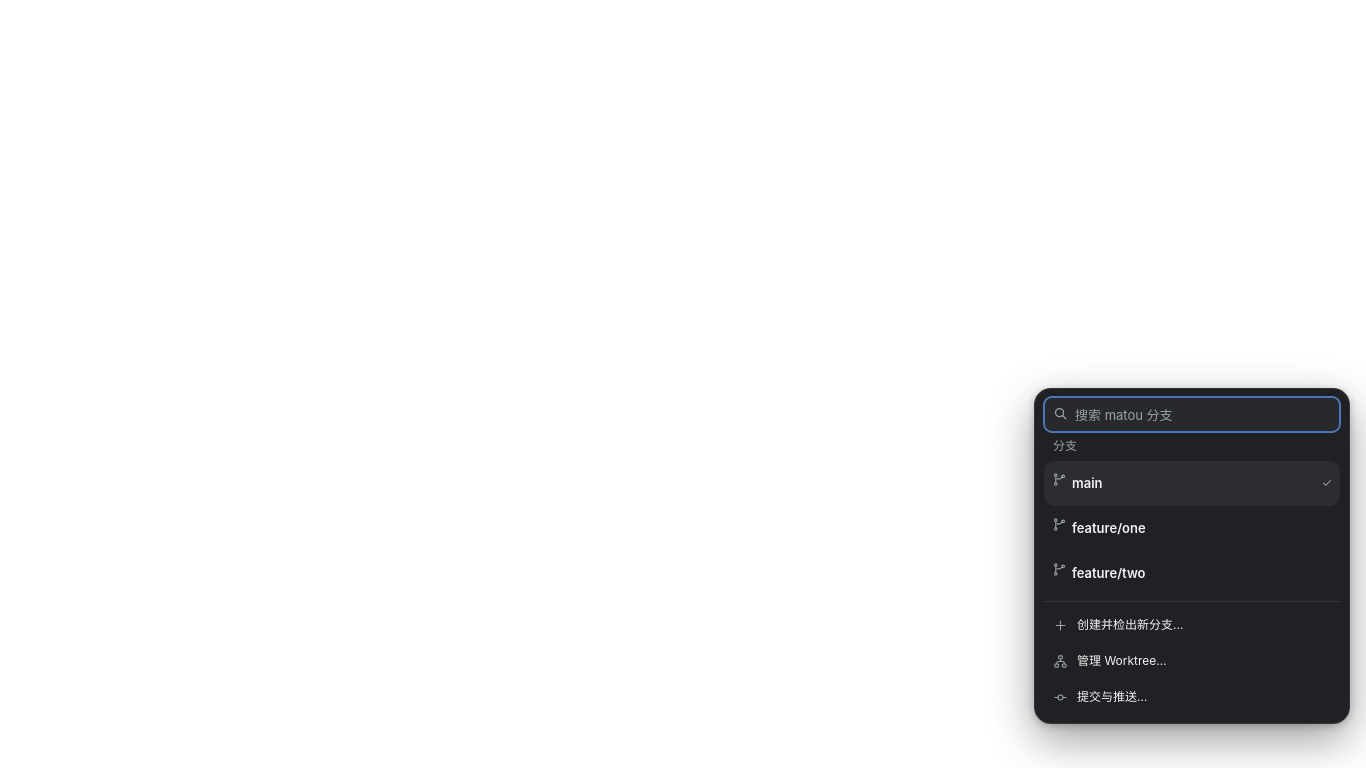
Test: GitControlMenu › filters local branches without issuing a Git mutation
This screenshot has width=1366, height=768.
Check: the option "feature/one" is shown, box left=1044, top=506, right=1340, bottom=551
In the field with placeholder "搜索 matou 分支": (1192, 415) left=1043, top=396, right=1341, bottom=433, type "two"
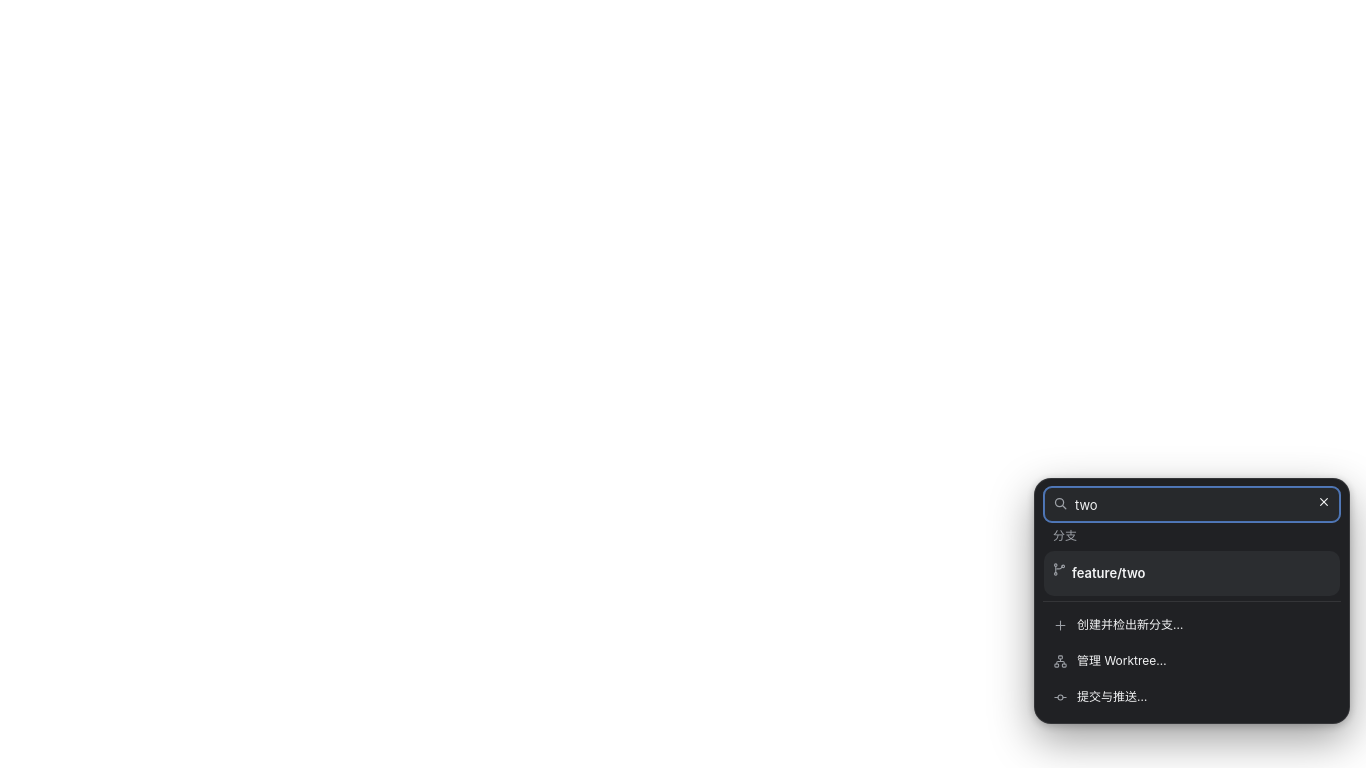
Check: the option "feature/two" is shown, box left=1044, top=551, right=1340, bottom=596
Check: the option "feature/one" is gone
